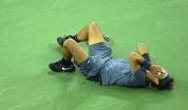falling: (48, 18, 179, 91)
